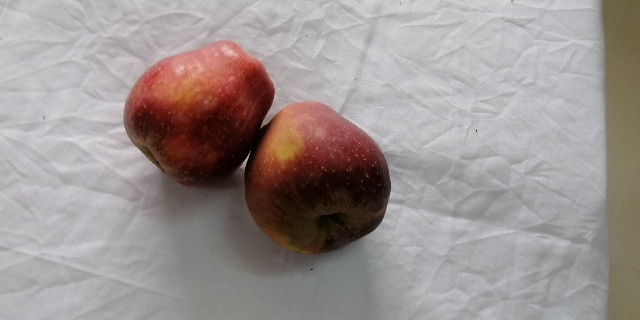apple_kashmir: (123, 38, 273, 187), (244, 105, 391, 256)
